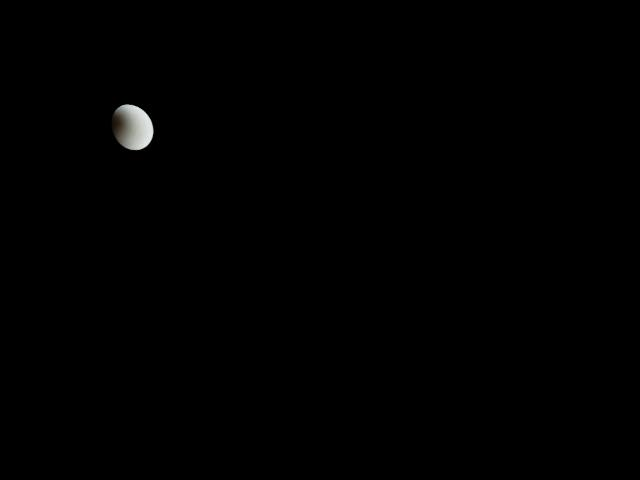egg: (110, 102, 154, 151)
